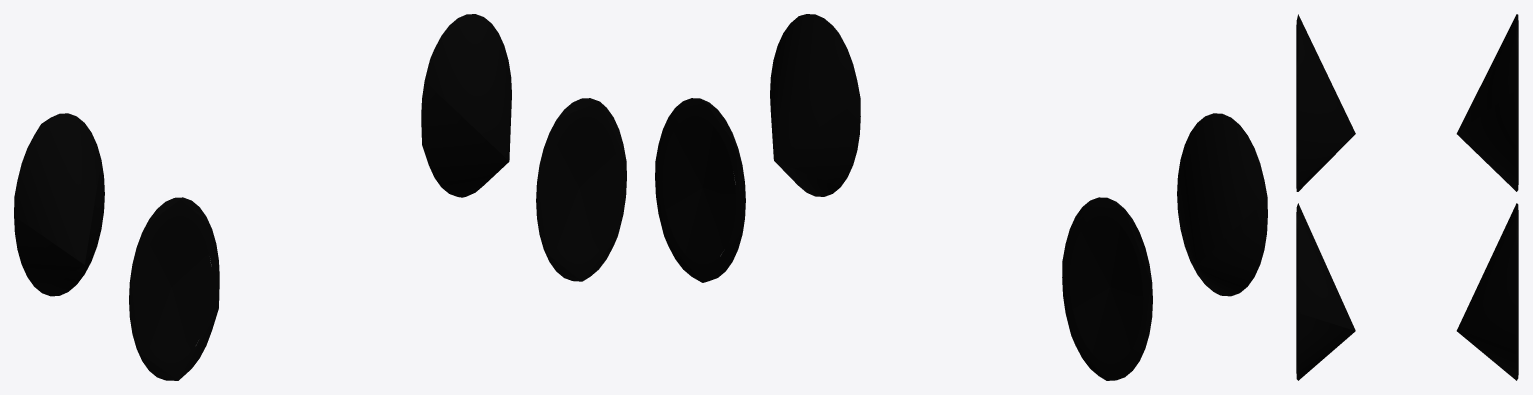
The model's file is car.lod1.obj.
The picture shows the model from 3 angles, left to right: view 1: azimuth 30°, elevation 25°; view 2: azimuth 150°, elevation 25°; view 3: azimuth 270°, elevation 25°; orthographic projection. The views are drawn at different scales.
Visible parts, largest first — view 1: Body; view 2: Body; view 3: Body.
Boxes of the visible parts, x1,y1,x2,y2 form: Body: [14, 14, 626, 380]; Body: [655, 14, 1267, 380]; Body: [1296, 14, 1518, 380].
Size of the model in its own units: 4.58 by 1.61 by 1.86.
Materials: 1 (1 with a texture image).
